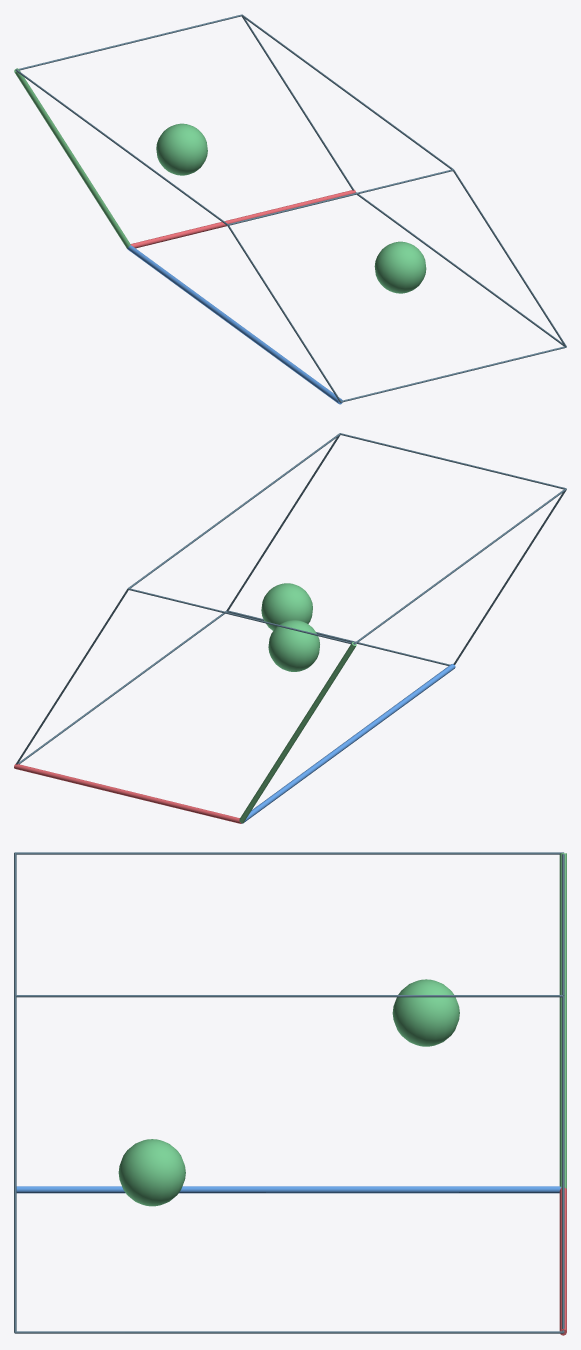
File: nguyen-to-mg.glb
3 views of the same model, one above another, from view 1: azimuth 30°, elevation 25°; view 2: azimuth 150°, elevation 25°; view 3: azimuth 270°, elevation 25° (orthographic). The views are drawn at different scales.
Parts seen in each view (by area): view 1: Ô mạng và các trục a, b, c, Mg · Mg · 1 (×2); view 2: Ô mạng và các trục a, b, c, Mg · Mg · 1 (×2); view 3: Ô mạng và các trục a, b, c, Mg · Mg · 1 (×2).
Boxes of the visible parts, x1,y1,x2,y2 form: Ô mạng và các trục a, b, c: [14, 14, 566, 404]; Mg · Mg · 1 (×2): [156, 123, 426, 293]; Ô mạng và các trục a, b, c: [14, 433, 566, 823]; Mg · Mg · 1 (×2): [261, 583, 319, 671]; Ô mạng và các trục a, b, c: [14, 852, 566, 1335]; Mg · Mg · 1 (×2): [118, 979, 459, 1206].
Size of the model in its own units: 4.86 by 2.83 by 5.26.
